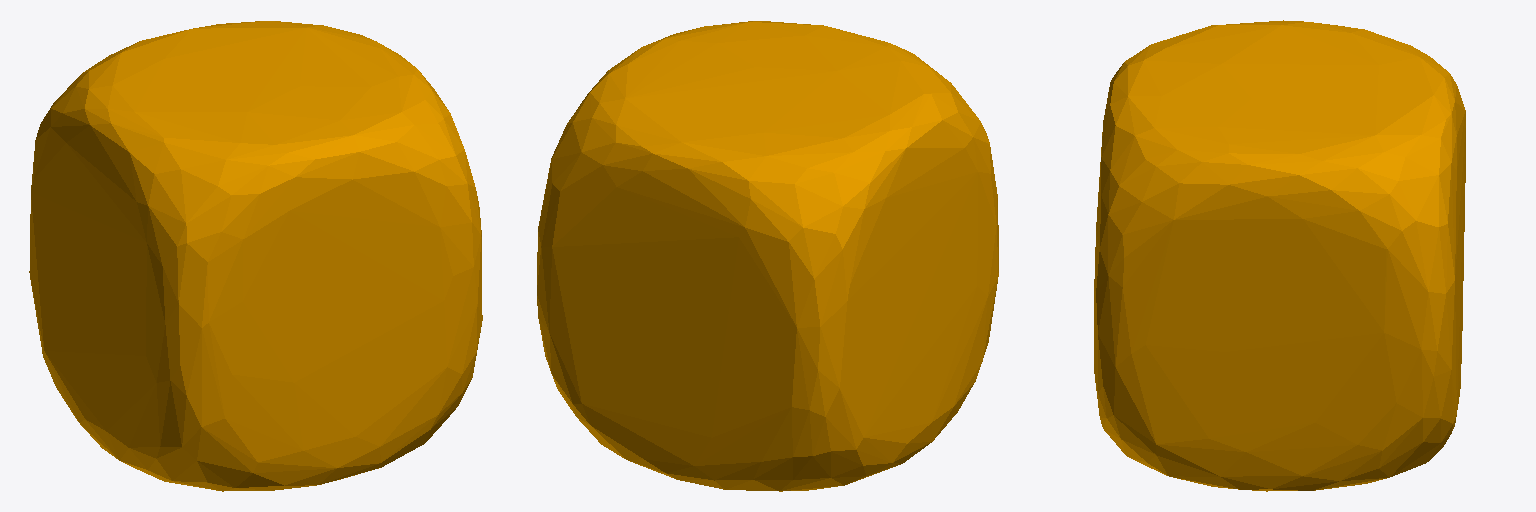
robot.urdf — 062_dice:
<?xml version="1.0" encoding="UTF-8"?>
<robot name="062_dice">
	<link name="base">
		<collision>
			<geometry>
				<mesh filename="..\vhacd\062_dice_vhacd.obj" scale="1.0 1.0 1.0"/>
			</geometry>
			<origin xyz="0 0 0"/>
			<contact_coefficients mu="0.24" />
		</collision>
		<visual>
			<geometry>
				<mesh filename="..\vhacd\062_dice_vhacd.obj" scale="1.0 1.0 1.0"/>
			</geometry>
			<origin xyz="0 0 0"/>
		</visual>
		<inertial>
			<mass value="0"/>
			<inertia ixx="0.0" ixy="0.0" ixz="-0.0" iyy="0.0" iyz="0.0" izz="0.0" />
			<origin xyz="-0.011207378516223023 0.009163342963909558 0.008407354782066879"/>
		</inertial>
	</link>
</robot>

--- Facts derived from the render (not from the file) ---
3 views of the same robot in one strip: view 1: azimuth 30°, elevation 25°; view 2: azimuth 150°, elevation 25°; view 3: azimuth 270°, elevation 25° (orthographic).
Robot: 062_dice — 1 links, 0 joints (none); root link base; default pose: all joints at 0.
Links seen in each view (by area): view 1: base; view 2: base; view 3: base.
Link boxes in pixels (<box>): base: <box>29,21,482,491</box>; base: <box>537,21,998,491</box>; base: <box>1094,20,1465,491</box>.
Bounding box of the posed robot: 0.0172 × 0.0171 × 0.0176 m (x, y, z).
Meshes: 1 distinct files referenced, 1 mesh visuals loaded (1 OBJ).